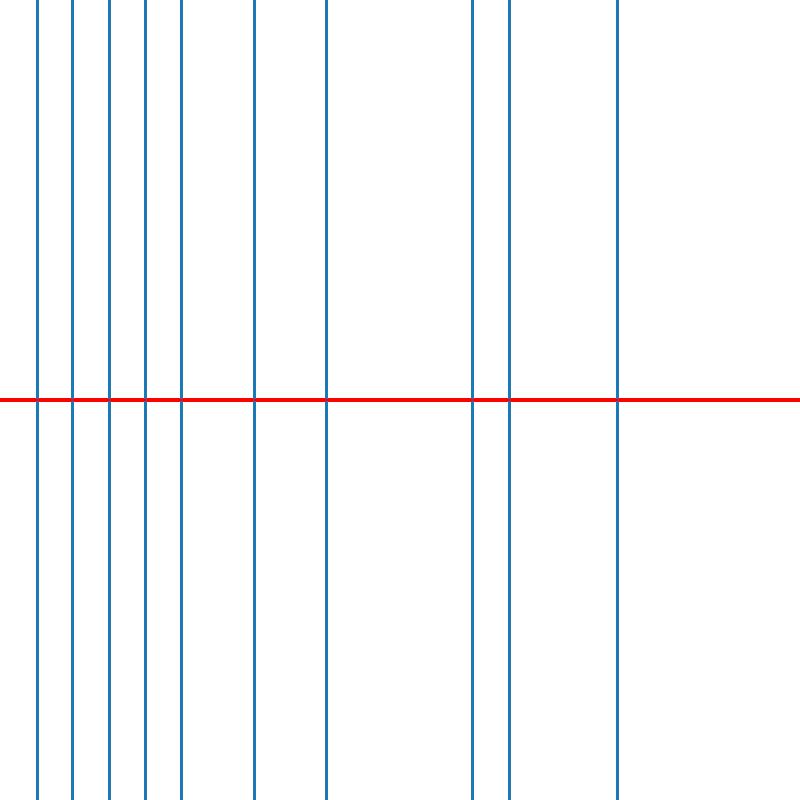root: (32, 396, 40, 404), (250, 396, 258, 404), (141, 396, 149, 404), (505, 396, 512, 404), (614, 396, 621, 404), (178, 396, 185, 404), (69, 396, 76, 404), (469, 396, 476, 404), (105, 396, 112, 404), (323, 396, 330, 404)
